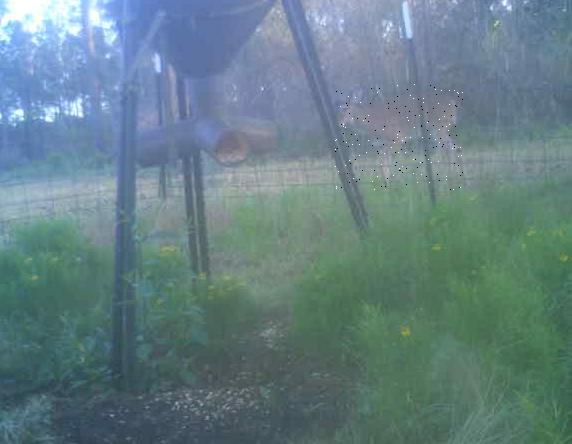Deer: (335, 84, 463, 190)
